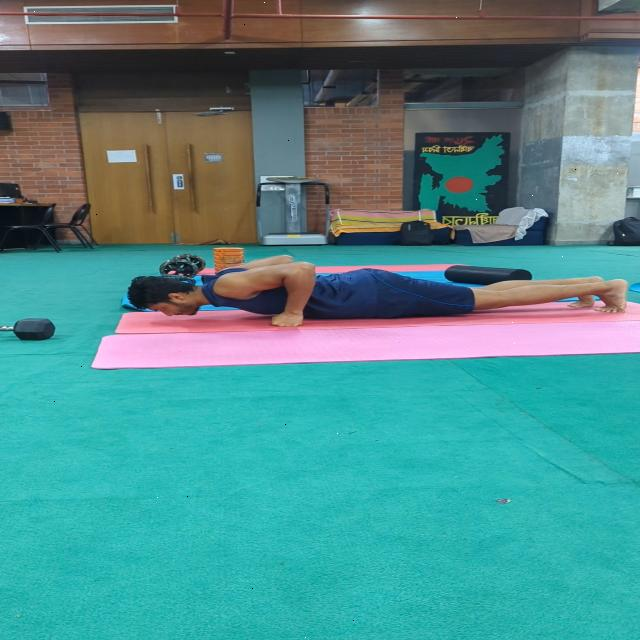Normal_PushUps: (116, 254, 634, 358)
